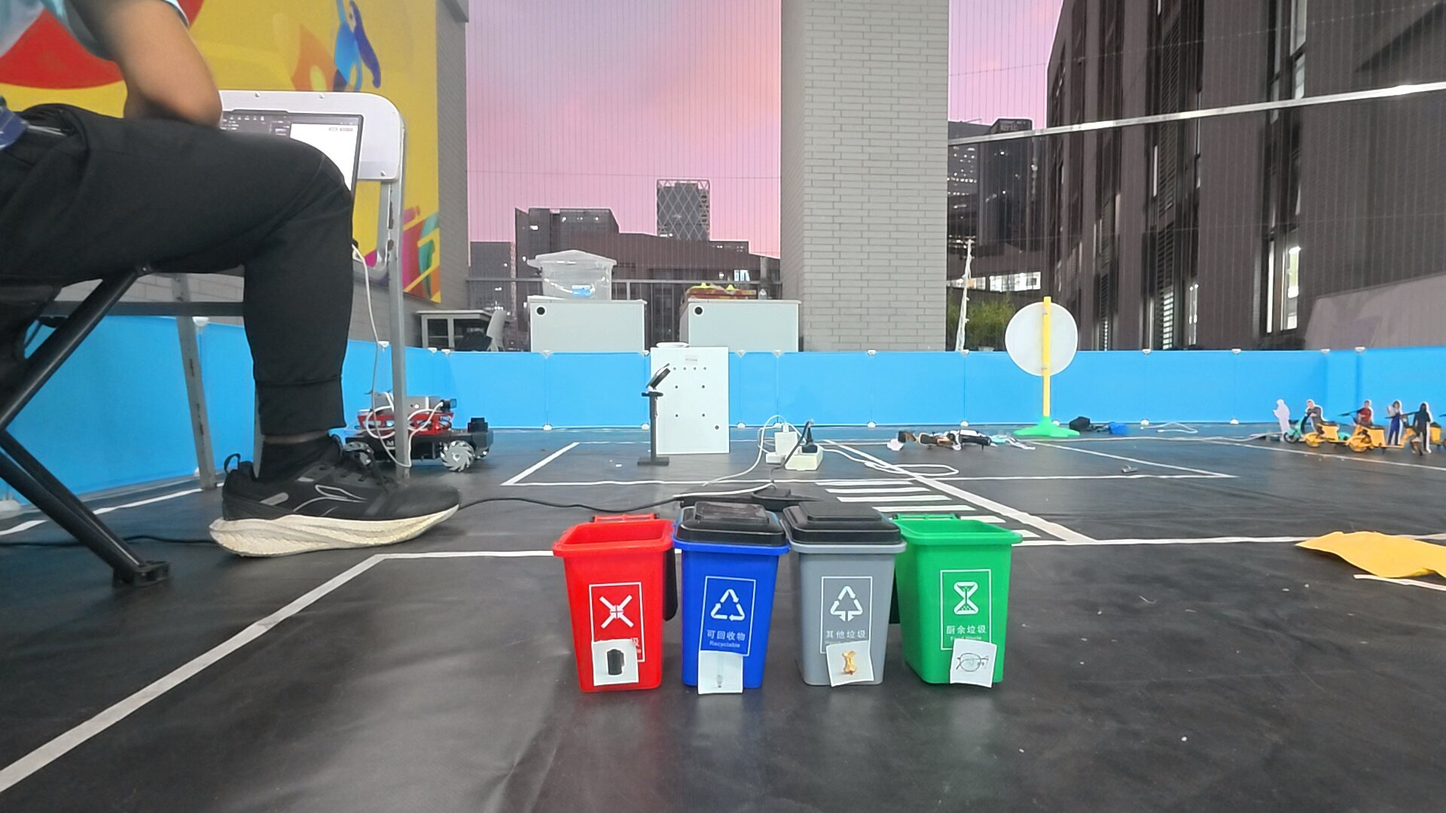food_trash: (825, 645, 870, 680)
hazardous_trash: (594, 643, 640, 683), (700, 650, 740, 694)
other_trash: (955, 639, 994, 683)
